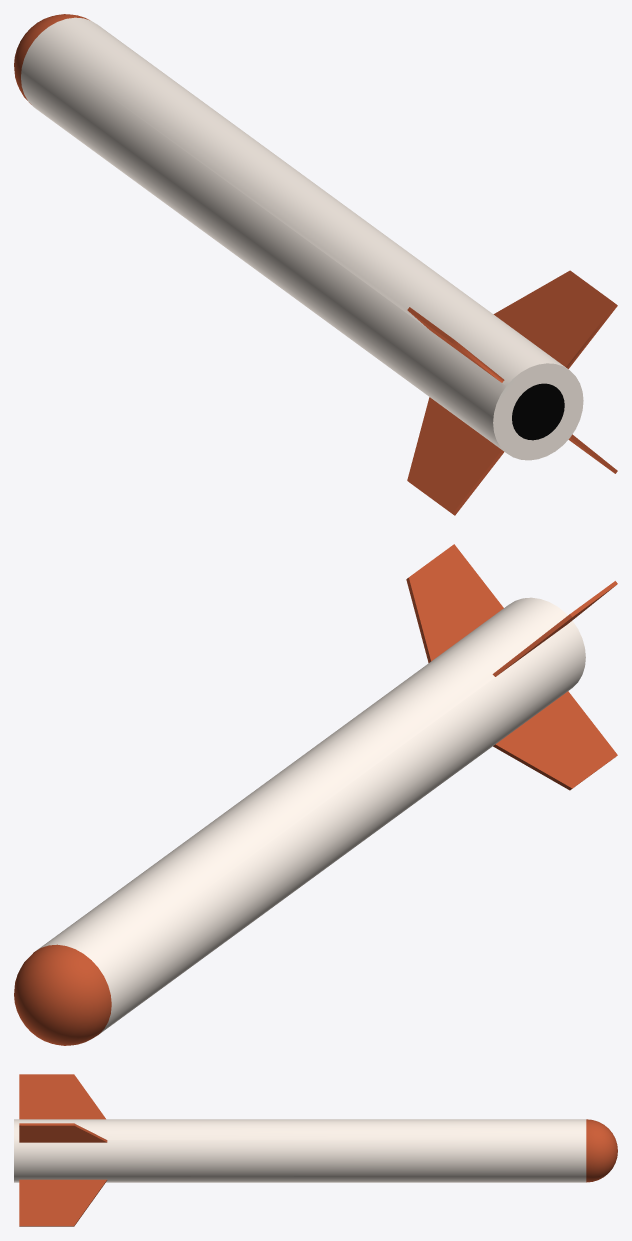
File: enemyMissile.obj
3 renders of one model, top to bottom at view 1: azimuth 30°, elevation 25°; view 2: azimuth 150°, elevation 25°; view 3: azimuth 270°, elevation 25°, orthographic. The views are drawn at different scales.
Visible parts, largest first — view 1: 球; view 2: 球; view 3: 球.
Part boxes in pixels (x1=…): 球: x1=14, y1=14, x2=617, y2=515; 球: x1=14, y1=544, x2=617, y2=1045; 球: x1=14, y1=1074, x2=617, y2=1226.
Bounding box in the file's own units: 0.7175 × 0.7283 × 3.74.
Materials: 1 (1 with a texture image).
